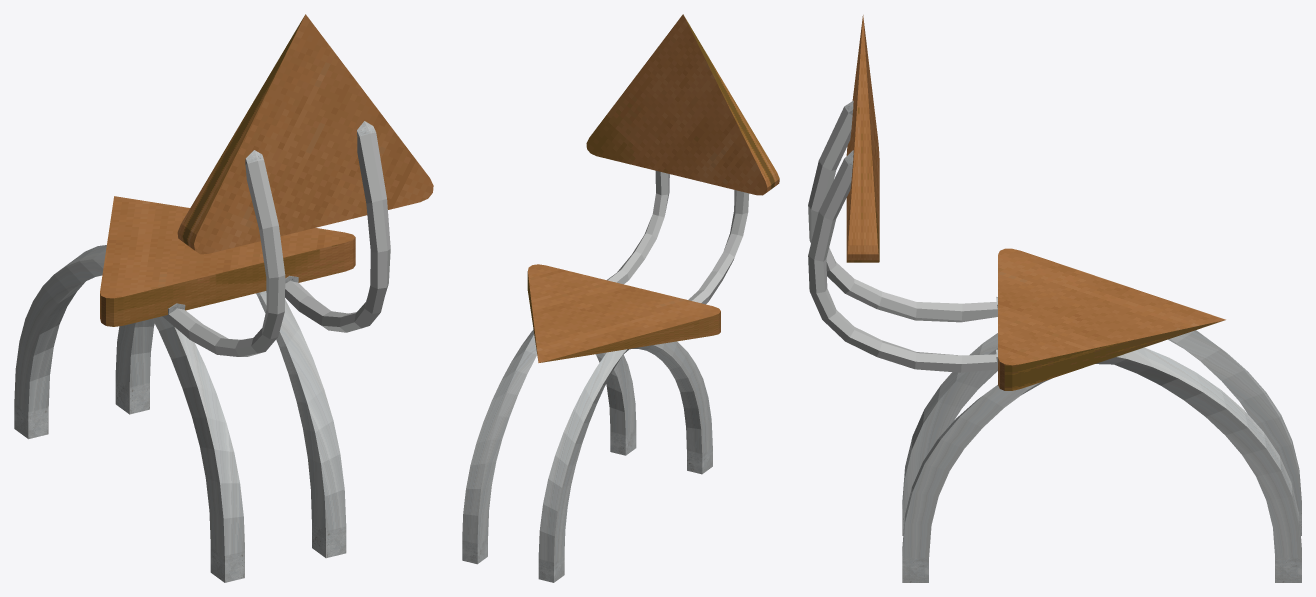
Rendered from Sedia_Triangolo_3.fbx.
3 views of the same model, side by side, from view 1: azimuth 30°, elevation 25°; view 2: azimuth 150°, elevation 25°; view 3: azimuth 270°, elevation 25° (orthographic). The views are drawn at different scales.
Visible parts, largest first — view 1: Cube.080; view 2: Cube.080; view 3: Cube.080.
Part boxes in pixels (box(x1,y1,x2,y2)): Cube.080: box(14, 14, 433, 582); Cube.080: box(462, 14, 779, 582); Cube.080: box(808, 15, 1301, 582).
Size of the model in its own units: 0.5959 by 1.29 by 1.07.
2 materials, 2 textured.
